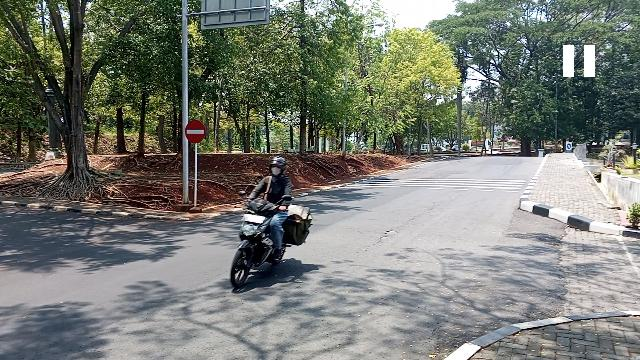helm: (271, 158, 288, 177)
motor: (232, 200, 289, 287)
